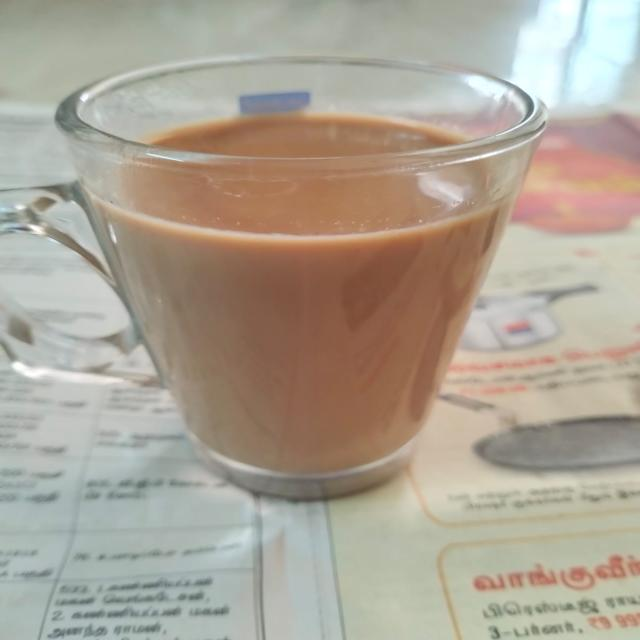glass-VX4N: (3, 52, 562, 498)
